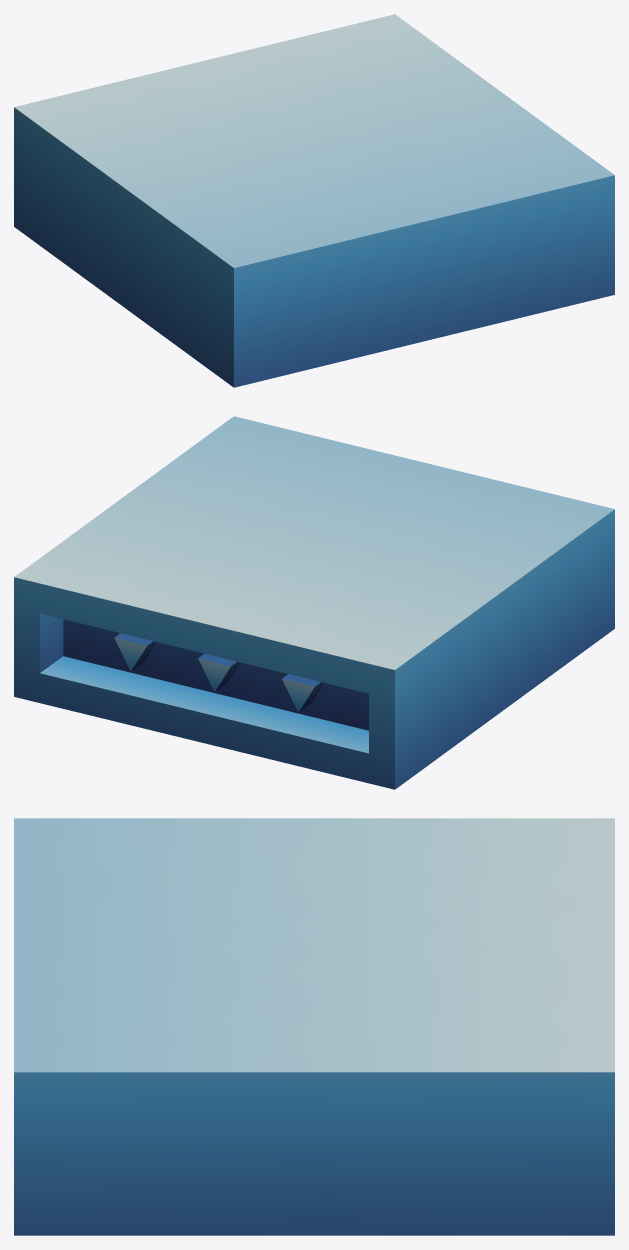
File: PlatformDroper.fbx
The picture shows the model from 3 angles, top to bottom: view 1: azimuth 30°, elevation 25°; view 2: azimuth 150°, elevation 25°; view 3: azimuth 270°, elevation 25°; orthographic projection. The views are drawn at different scales.
Parts seen in each view (by area): view 1: TriangleLeft1; view 2: TriangleLeft1; view 3: TriangleLeft1.
Part boxes in pixels (x1=…): TriangleLeft1: x1=14, y1=14, x2=614, y2=387; TriangleLeft1: x1=14, y1=416, x2=614, y2=789; TriangleLeft1: x1=14, y1=818, x2=614, y2=1235.
Bounding box in the file's own units: 1 × 0.3 × 1.
Materials: 1 (1 with a texture image).
